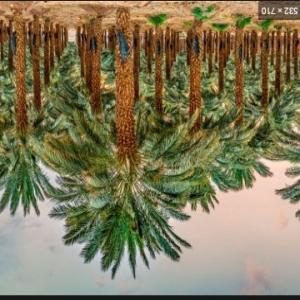palm tree: (0, 5, 299, 280)
